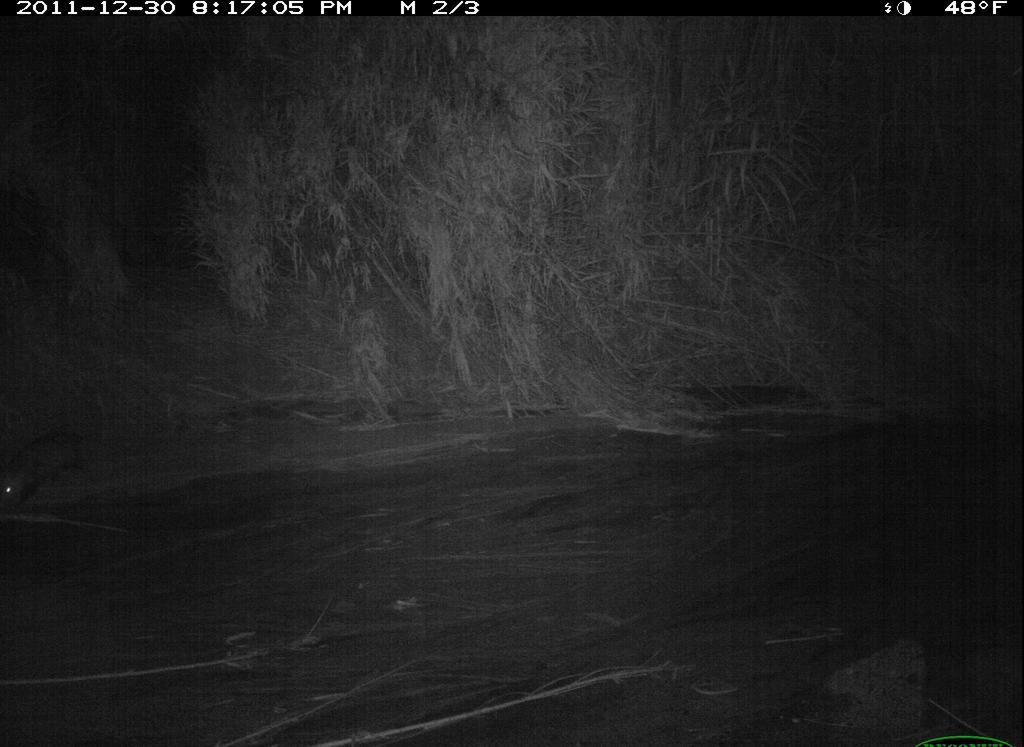opossum: (6, 411, 121, 523)
